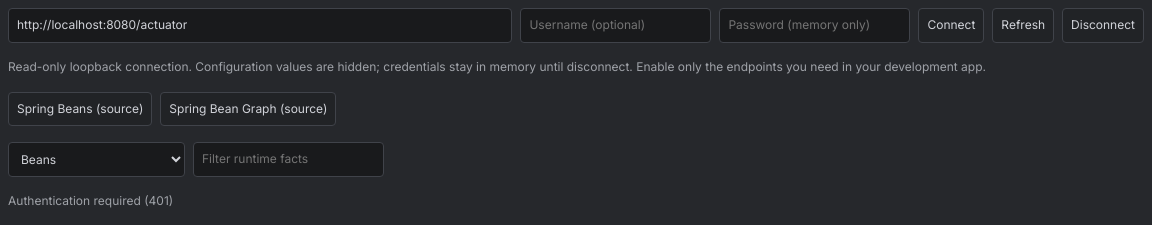
Scenario: distinguishes permission, disabled and version errors from an empty result
The image size is (1152, 225).
Check: the message reads "Authentication required (401)", box [8, 193, 173, 208]
Select "Environment keys" in the dropdown named "Runtime endpoint": coordinates (96, 160) [8, 142, 185, 177]
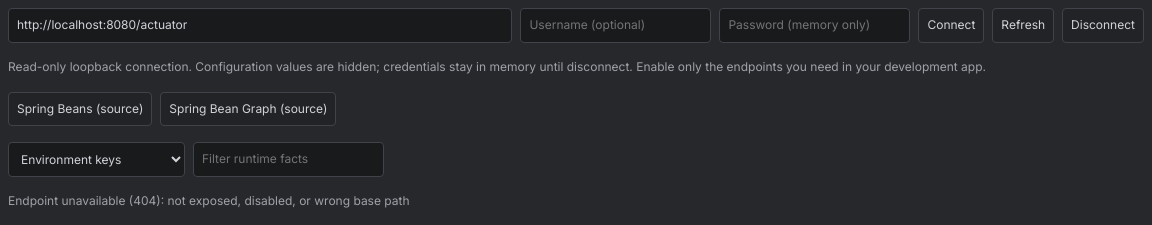
Check: the message shows "Endpoint unavailable (404)", box [8, 193, 410, 208]
Select "Configuration properties" in the dropdown named "Runtime endpoint": coordinates (96, 160) [8, 142, 185, 177]
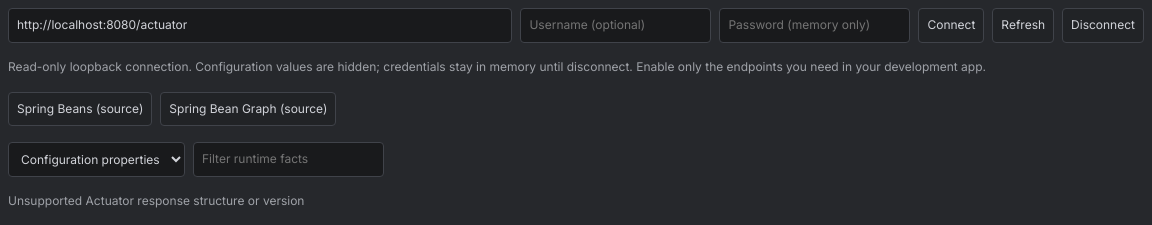
Check: the message reads "Unsupported Actuator response structure or version", box [8, 193, 304, 208]
